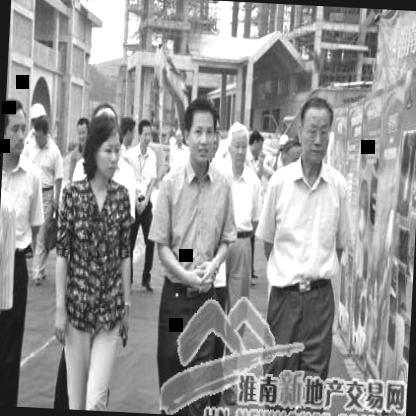head: (294, 90, 338, 170), (180, 93, 222, 170), (84, 108, 124, 178), (2, 95, 30, 162), (223, 119, 250, 174), (31, 111, 52, 147), (117, 112, 136, 150), (136, 116, 155, 150), (249, 128, 267, 160), (74, 116, 90, 148)
